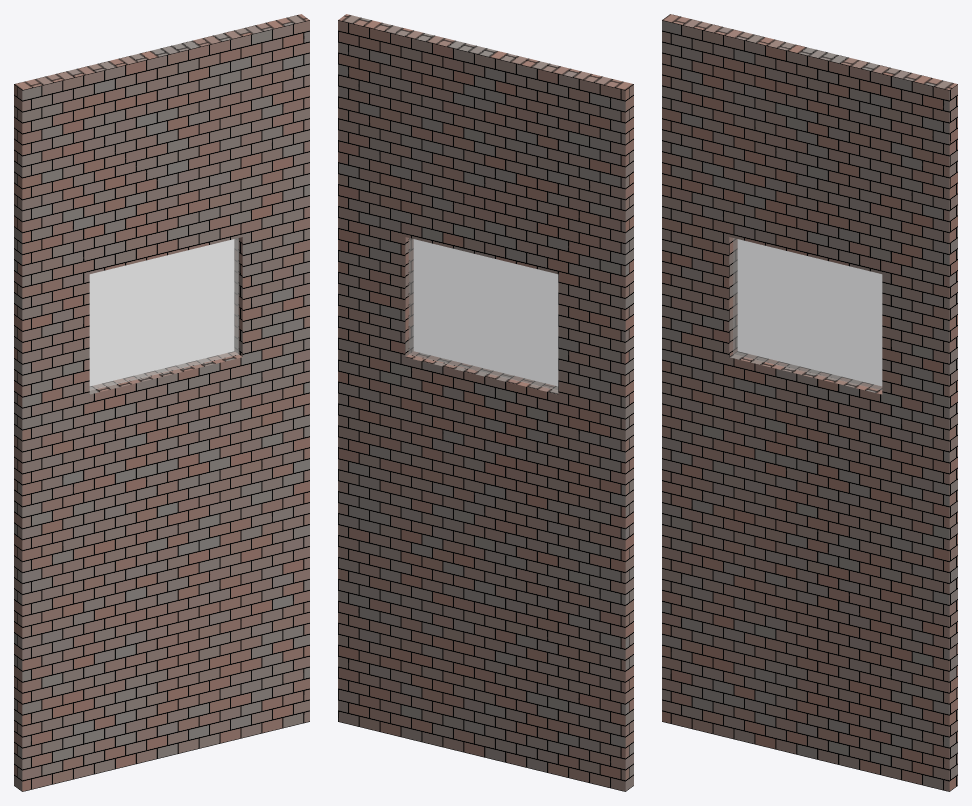
File: window_wall.glb
3 views of the same model, side by side, from view 1: azimuth 30°, elevation 25°; view 2: azimuth 150°, elevation 25°; view 3: azimuth 330°, elevation 25° (orthographic).
Visible parts, largest first — view 1: WindowGlass; view 2: WindowGlass; view 3: WindowGlass.
Part boxes in pixels (bbox=[...]): WindowGlass: bbox=[14, 14, 309, 791]; WindowGlass: bbox=[338, 14, 633, 791]; WindowGlass: bbox=[662, 14, 957, 791].
Size of the model in its own units: 15 by 35 by 0.75.
2 materials, 1 textured.
